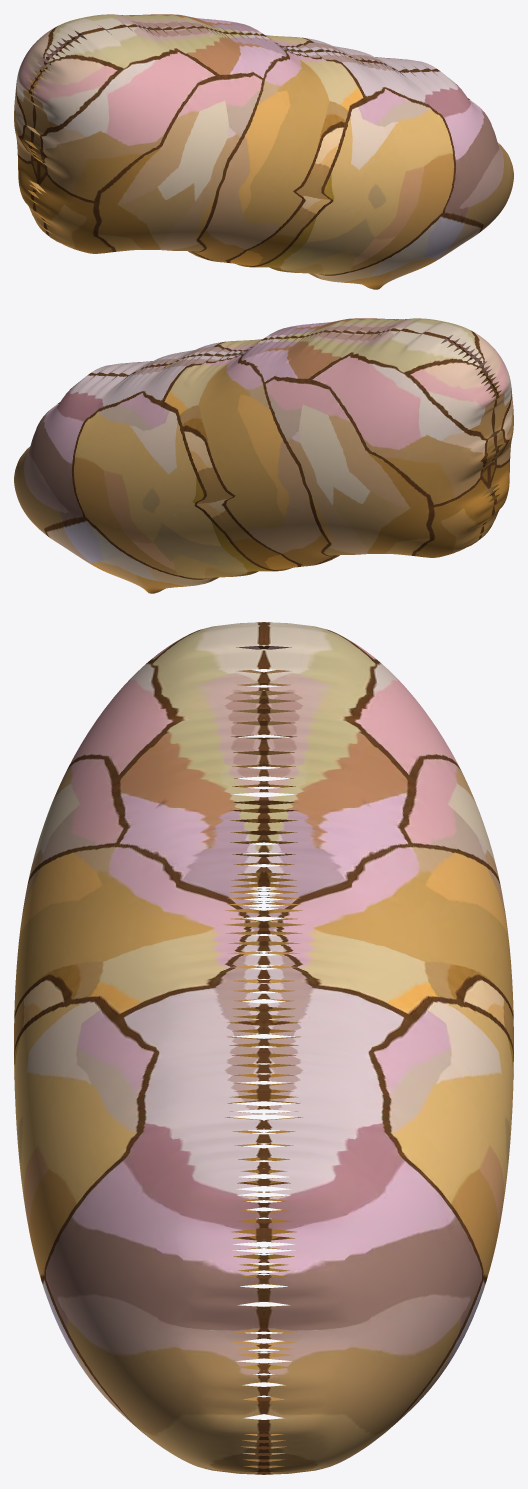
The model's file is rock_ridge.glb.
3 views of the same model, one above another, from view 1: azimuth 30°, elevation 25°; view 2: azimuth 150°, elevation 25°; view 3: azimuth 270°, elevation 25° (orthographic). The views are drawn at different scales.
Parts seen in each view (by area): view 1: rock_ridge; view 2: rock_ridge; view 3: rock_ridge.
Boxes of the visible parts, bbox=[...] form: rock_ridge: bbox=[14, 14, 513, 289]; rock_ridge: bbox=[14, 318, 513, 593]; rock_ridge: bbox=[14, 622, 513, 1474].
Size of the model in its own units: 0.9888 by 0.6034 by 0.4948.
Materials: 1 (1 with a texture image).
